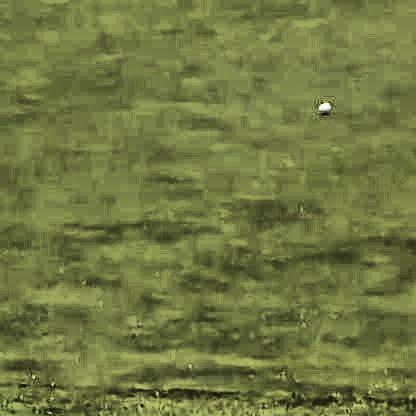golfball: (318, 98, 330, 113)
